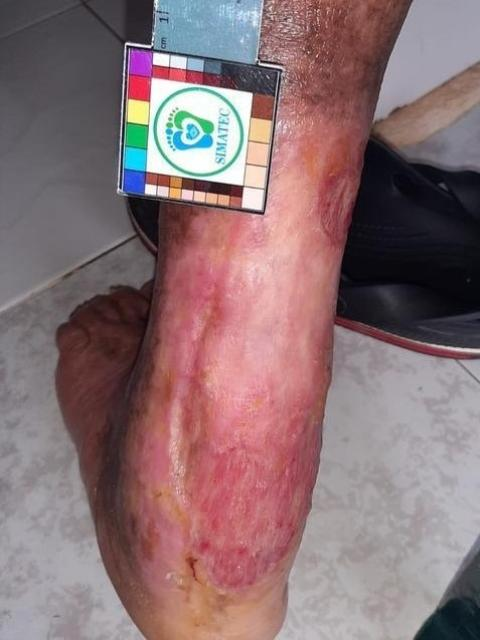wound: (170, 288, 322, 593), (316, 142, 367, 243)
